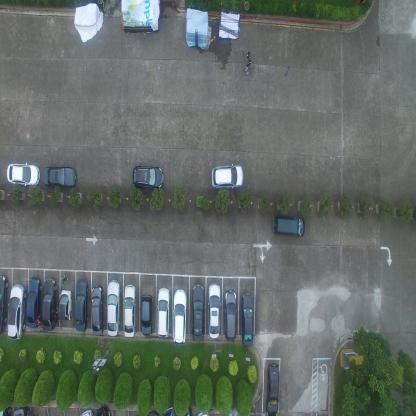car: (7, 283, 26, 341), (210, 162, 244, 190), (272, 212, 306, 238), (42, 277, 58, 332), (132, 164, 164, 191), (43, 164, 76, 190), (106, 278, 120, 337), (265, 361, 280, 416), (6, 162, 40, 186), (191, 284, 205, 341), (26, 276, 41, 328), (173, 288, 186, 346), (75, 279, 89, 332), (241, 292, 254, 348), (208, 283, 221, 338), (123, 284, 136, 339), (91, 284, 104, 337), (224, 290, 237, 342), (157, 287, 169, 339), (141, 293, 153, 338), (0, 272, 8, 336), (58, 288, 73, 322), (12, 403, 30, 415), (0, 401, 12, 415), (95, 405, 111, 415), (162, 404, 175, 415), (80, 406, 94, 416), (180, 405, 192, 415), (146, 408, 159, 416), (196, 407, 209, 415)
